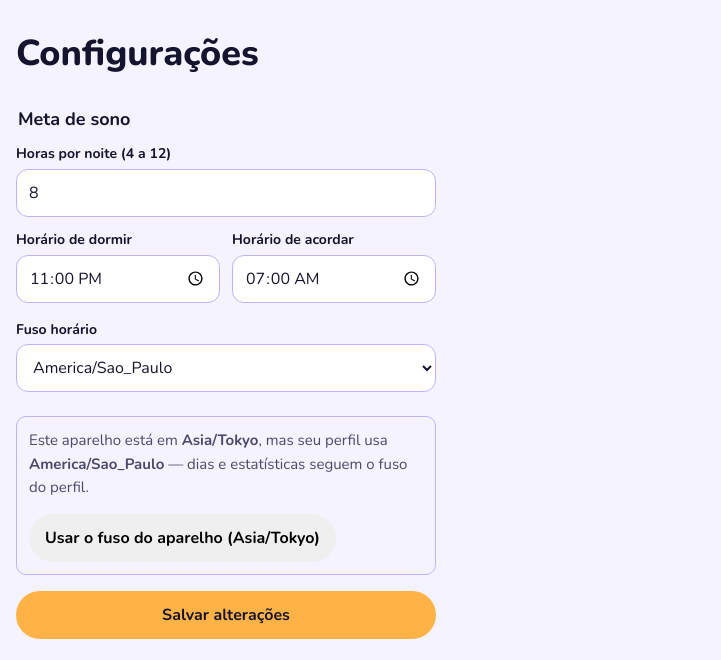
Test case: tela de Configurações › reagenda o lembrete quando o horário de dormir muda
The width and height of the screenshot is (721, 660).
Step 1. Replace the text in the time field labelled "Horário de dormir" with "22:30" → (118, 279), box top-left (16, 255), bottom-right (220, 303)
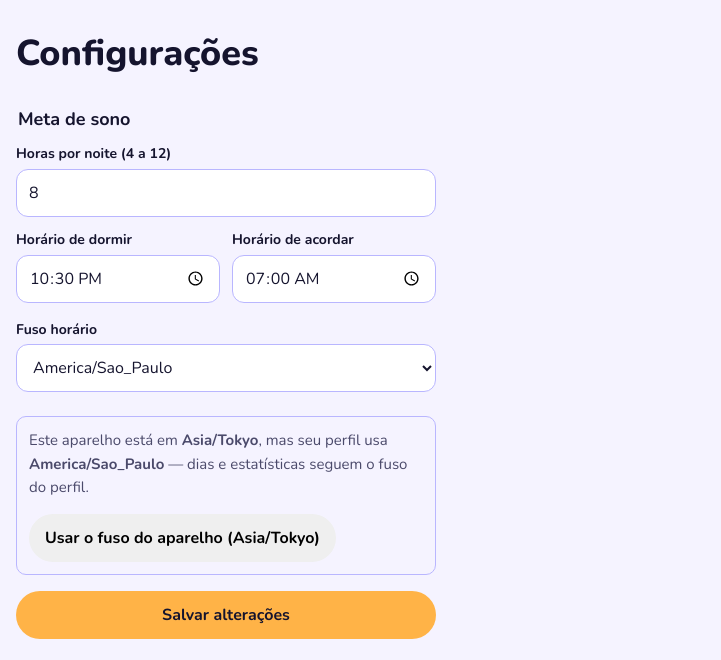
Step 2. Click the button "Salvar alterações" → (226, 615), box top-left (16, 591), bottom-right (436, 639)
(page scrolled)
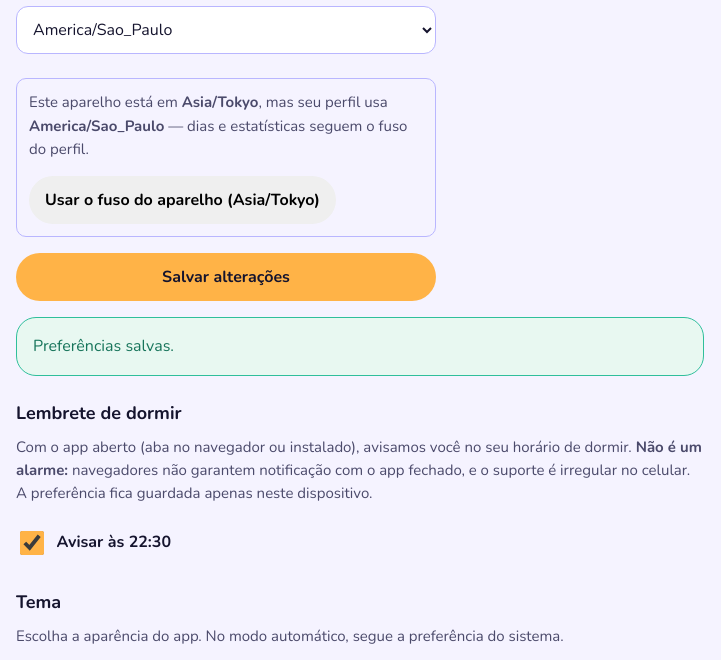
Result: the text "Preferências salvas." is shown at top-left (16, 317), bottom-right (704, 376)
